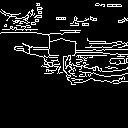cube: (46, 37, 77, 62)
